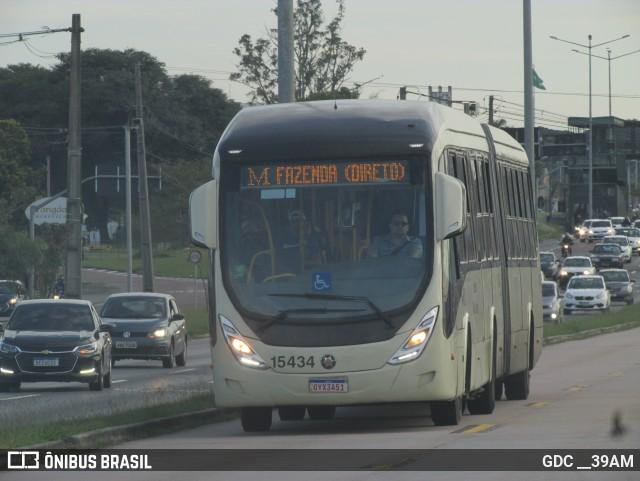FAZENDA: (272, 163, 340, 186)
